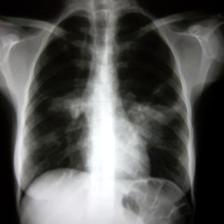tuberculosis: (14, 6, 196, 210)
